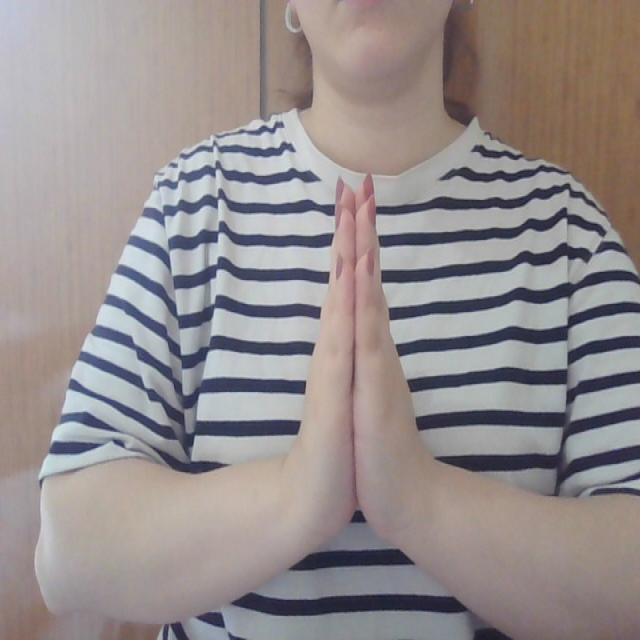Ozur-Dilemek: (278, 160, 432, 559)
